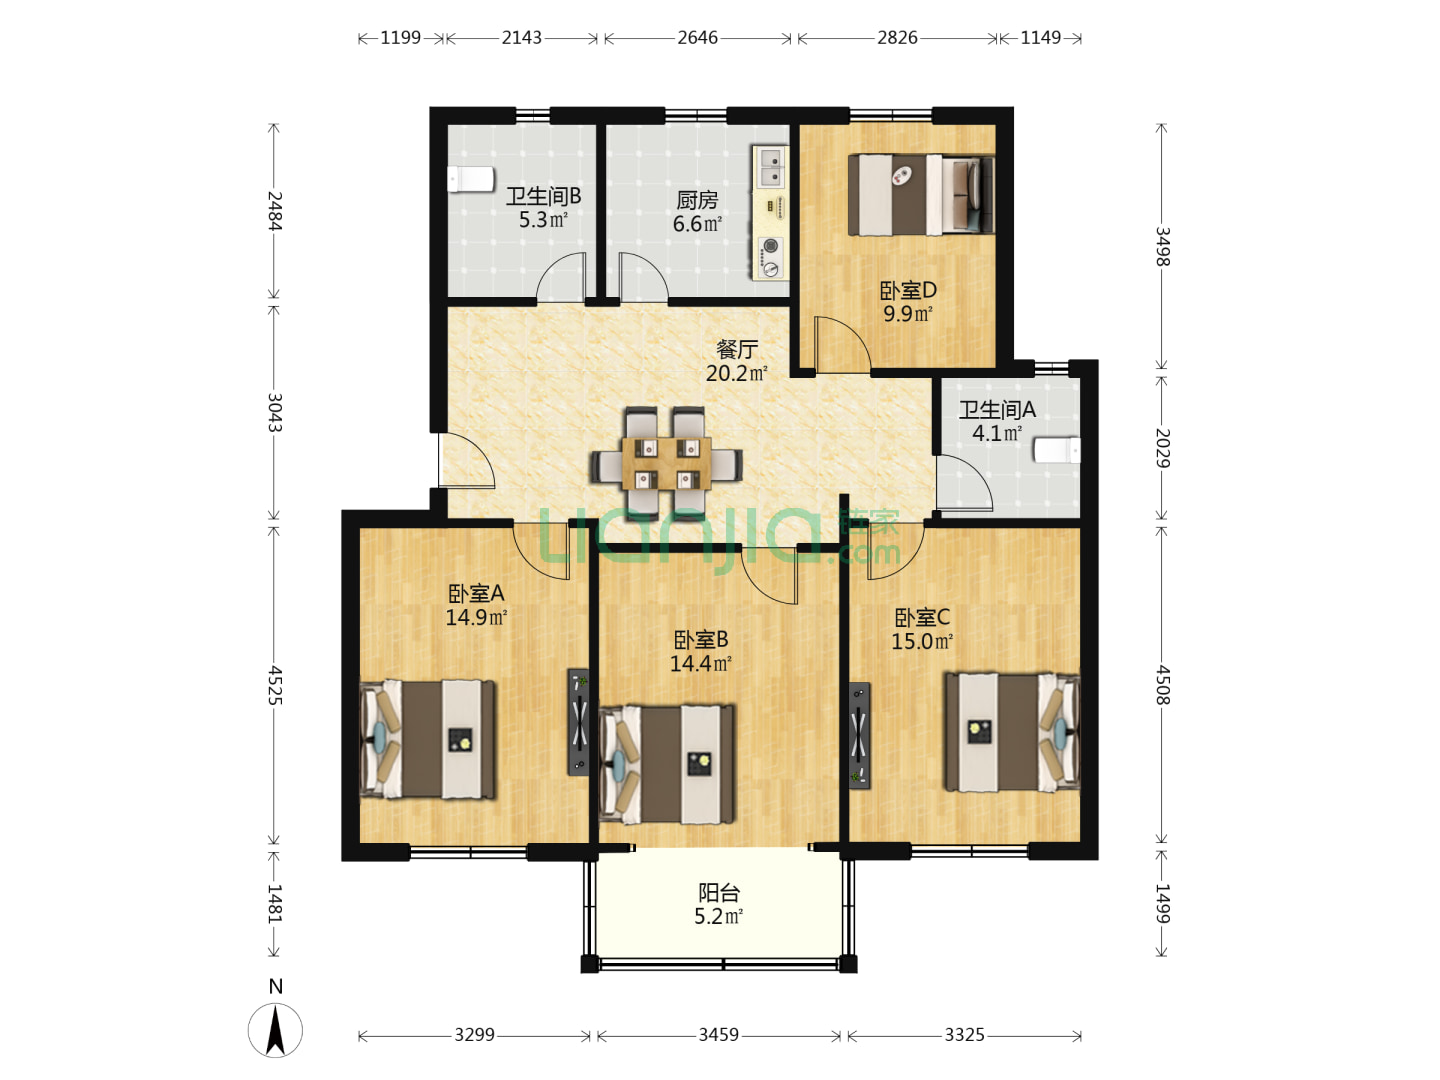DOOR(单开门): (734, 535, 807, 611), (923, 442, 1000, 515), (808, 309, 878, 381), (507, 511, 576, 583), (432, 427, 502, 496), (863, 518, 926, 584), (613, 246, 674, 310), (533, 248, 592, 311)
